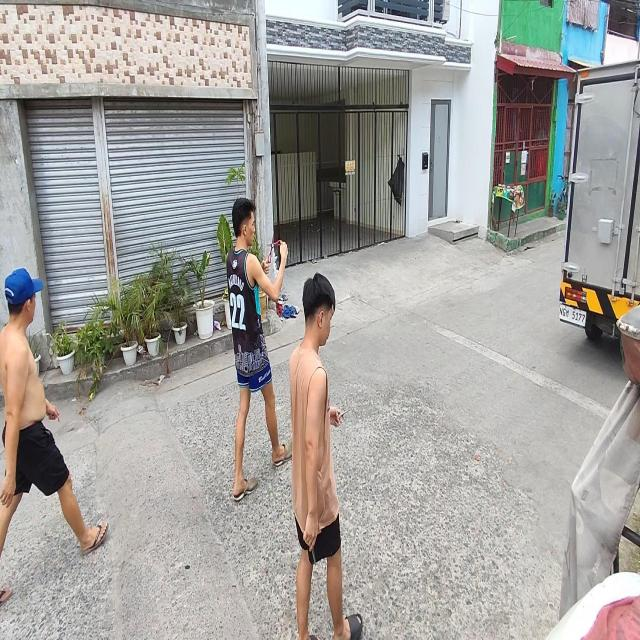scissor: (266, 232, 282, 263)
